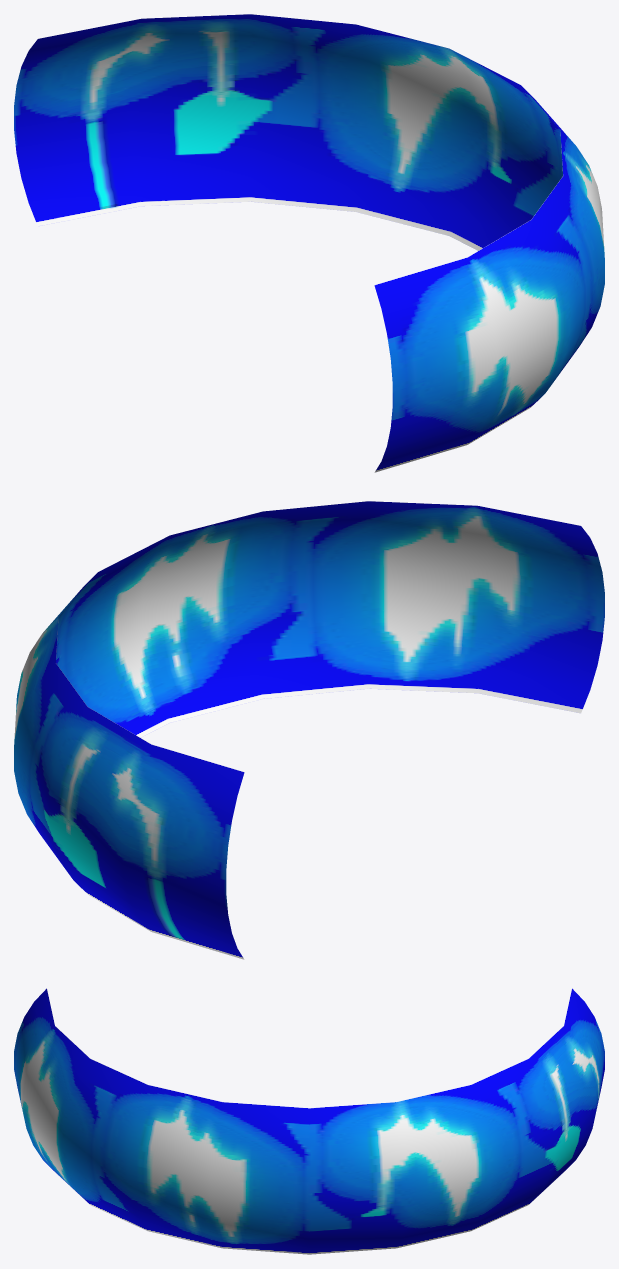
File: luocha_attack_foot01.FBX
The picture shows the model from 3 angles, top to bottom: view 1: azimuth 30°, elevation 25°; view 2: azimuth 150°, elevation 25°; view 3: azimuth 270°, elevation 25°; orthographic projection. The views are drawn at different scales.
Visible parts, largest first — view 1: Plane001; view 2: Plane001; view 3: Plane001.
Boxes of the visible parts, x1,y1,x2,y2 form: Plane001: [14, 14, 604, 472]; Plane001: [14, 501, 604, 959]; Plane001: [14, 988, 604, 1254].
Bounding box in the file's own units: 32.74 × 16.56 × 60.58.
